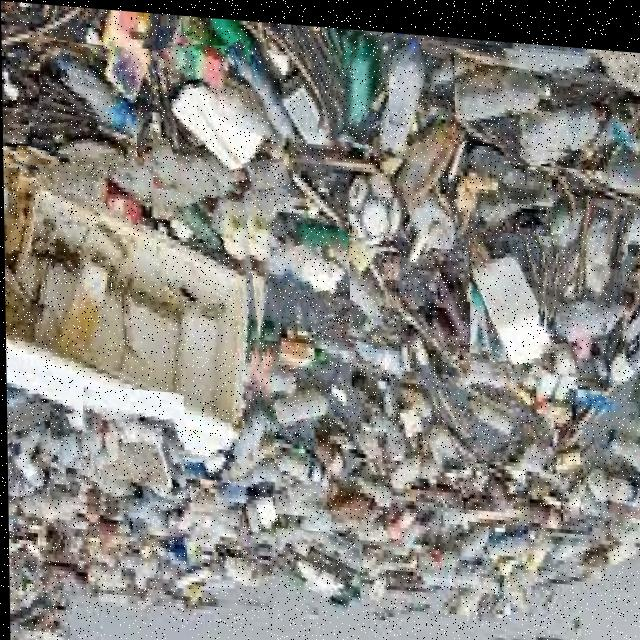litter: (2, 148, 271, 479), (150, 37, 280, 204), (467, 220, 566, 377), (75, 383, 183, 516), (34, 38, 151, 157), (453, 35, 570, 142), (30, 105, 136, 220), (502, 77, 625, 161), (551, 182, 627, 317), (308, 225, 398, 337), (366, 23, 440, 153), (267, 522, 358, 611), (277, 211, 348, 323), (322, 21, 388, 138), (446, 358, 521, 454), (541, 259, 638, 331), (259, 351, 330, 427), (587, 385, 640, 471), (578, 434, 640, 504), (5, 398, 49, 496), (534, 414, 593, 484), (388, 377, 431, 451)
